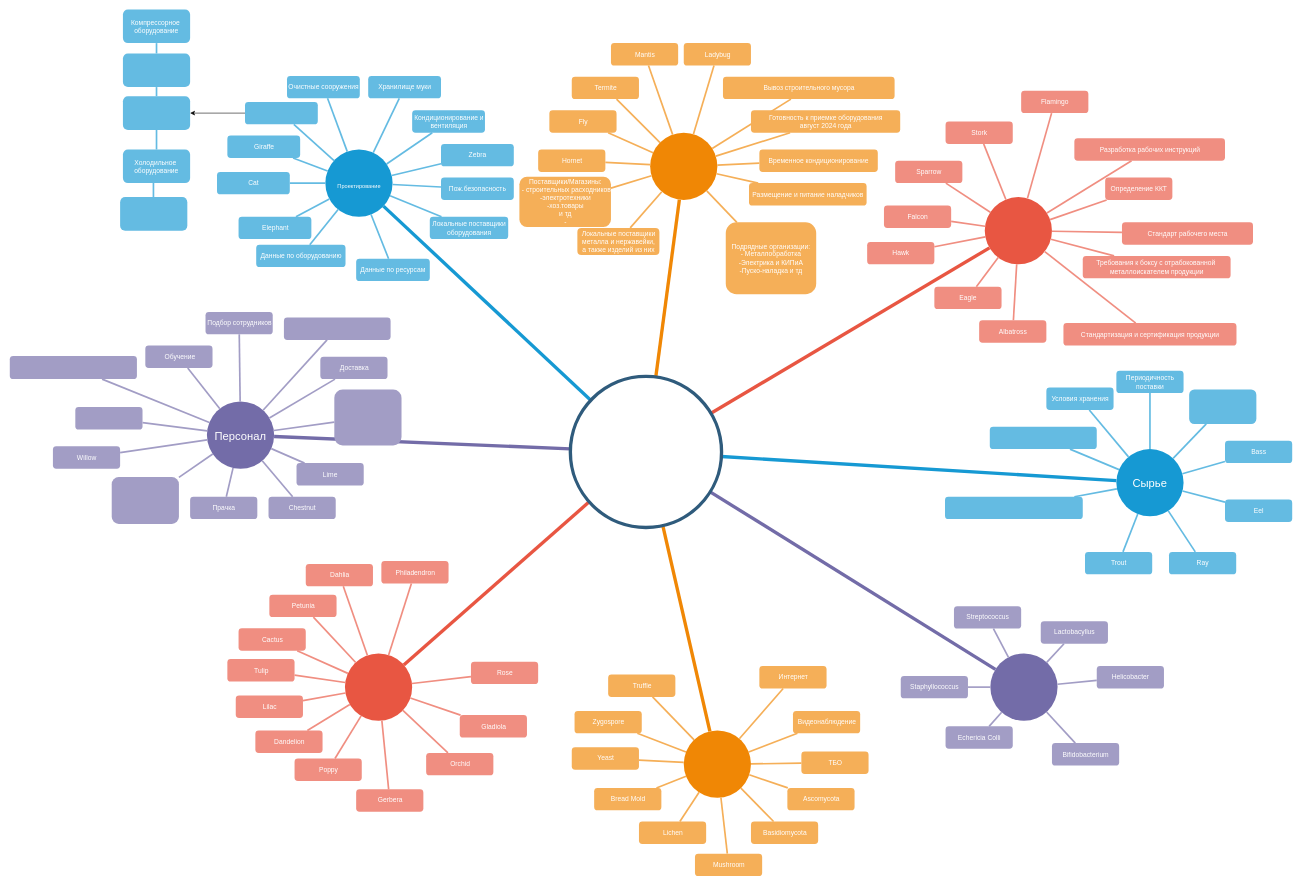
This 1301x886 diagram has some shape labels left out. Here are the shapes that lost their labels. From the top down, the centre of each, then its label:
At pixel 156 70: "Котельное оборудование".
At pixel 156 113: "Газголдер".
At pixel 281 113: "Доп.оборудование".
At pixel 683 166: "Строительство".
At pixel 153 213: "Трансформаторы".
At pixel 1018 230: "Пищевая безопасность".
At pixel 337 328: "Обеспечение спецодеждой".
At pixel 73 367: "Раздевалки с разделением грязной и чистой зон".
At pixel 108 418: "Acacia".
At pixel 367 417: "Аутсорсинг: -охрана -клининг -обслуживание оборудования".
At pixel 1222 406: "Место хранения: Внутри или снаружи (улица)".
At pixel 645 451: "Производство".
At pixel 1043 437: "Поставщики и форма поставки сырья (налив, биг-бэг..)".
At pixel 145 500: "Питание: -Столовая -Кейтеринг -Кухня".
At pixel 1013 507: "Соответствие характеристик сырья текущим рецептурам".
At pixel 378 686: "Flower".
At pixel 1023 686: "Производственный процесс".
At pixel 717 763: "Прочее".
